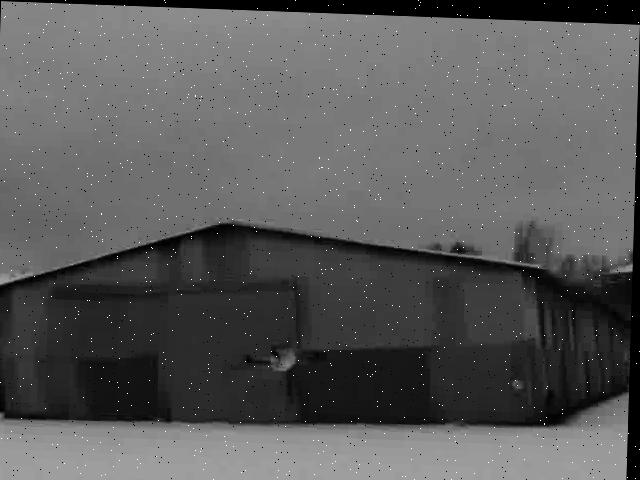drone: (223, 316, 332, 397)
